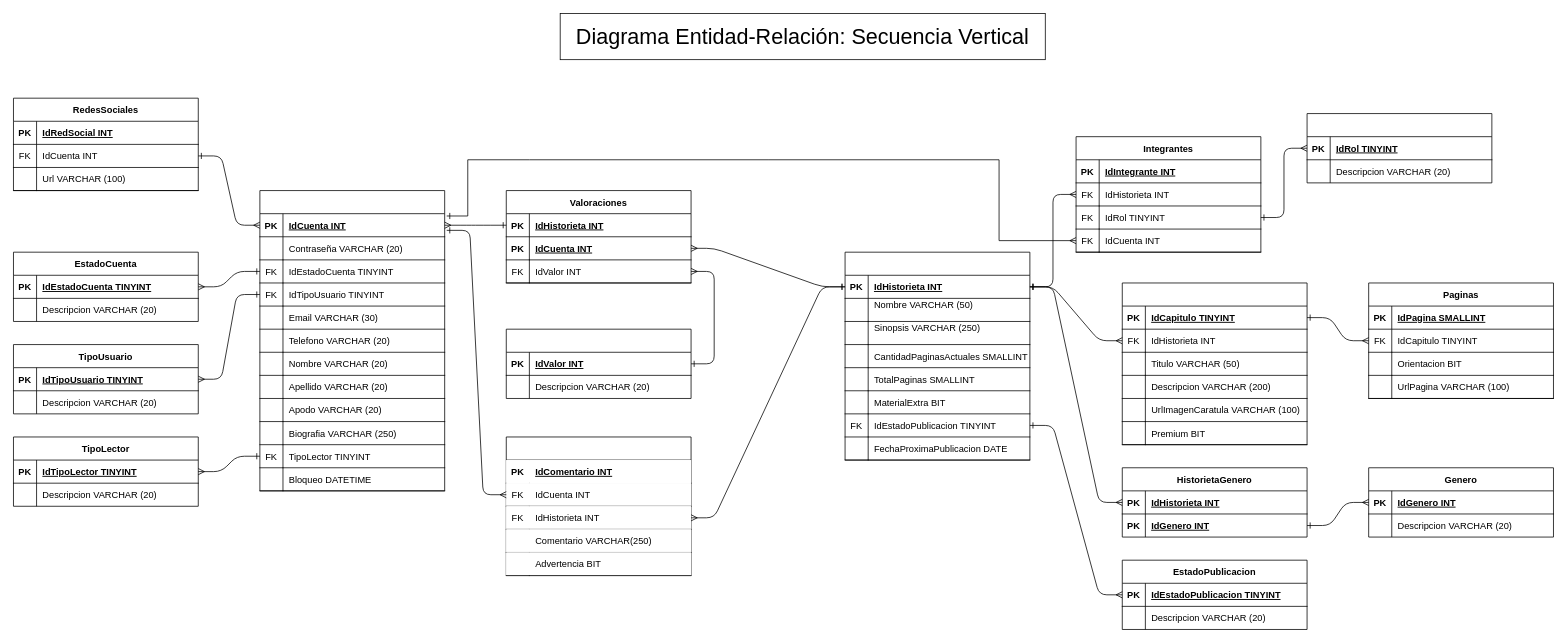
The diagram is 1567 pixels wide and 643 high, and some of its shapes have lost their labels. Each missing label, with the box of its shape:
Capitulos: (1122, 282, 1307, 445)
Comentarios: (506, 436, 691, 576)
Cuentas: (259, 190, 445, 491)
Historietas: (844, 251, 1030, 460)
Roles: (1306, 113, 1492, 183)
Valores: (506, 328, 691, 398)
